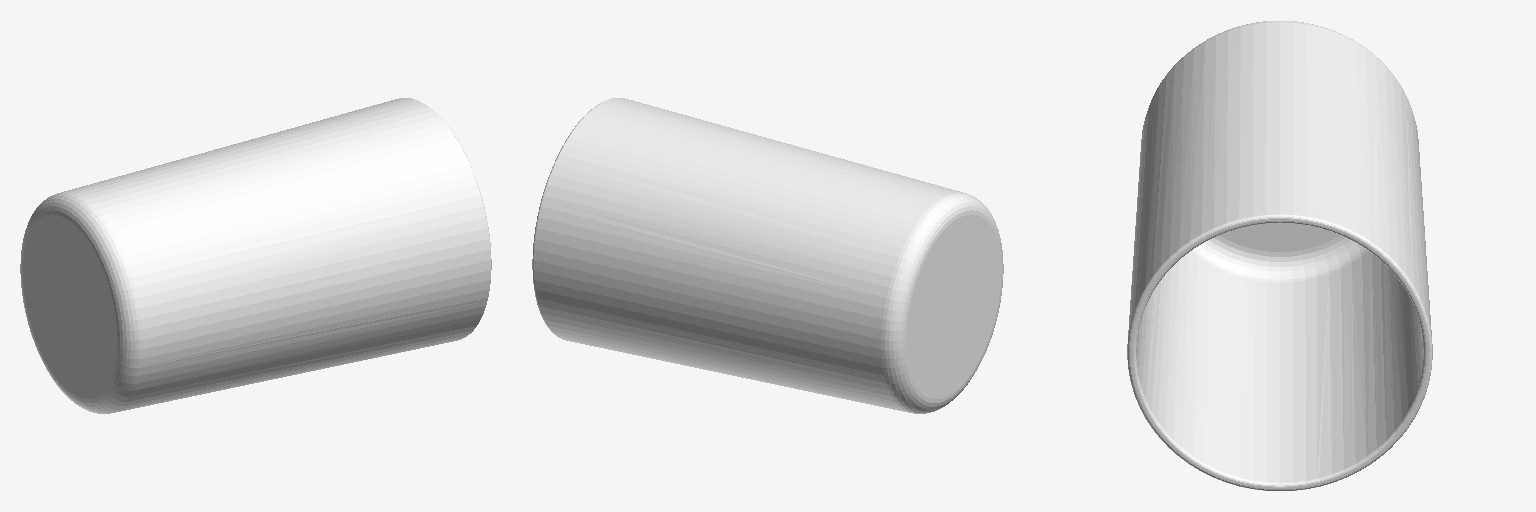
URDF robot description (Cup_GeoCenter.urdf):
<?xml version="1.0" ?>
<robot name="Cup_GeoCenter.urdf">
  <link name="baseLink">
    <contact>
      <lateral_friction value="1.0"/>
      <inertia_scaling value="1.0"/>
    </contact>
    <inertial>
      <origin rpy="0 0.028575317269292654 0" xyz="0.000000 0.000000 0.000000"/>
      <mass value="0.000000"/>
      <inertia ixx="0.000000" ixy="0.000000" ixz="0.000000" iyy="0.000000" iyz="0.000000" izz="0.000000"/>
    </inertial>
    <visual>
      <origin rpy="0 0 0" xyz="0 0 0"/>
      <geometry>
       <mesh filename="Cup_GeoCenter.obj" scale="1 1 1"/>
      </geometry>
       <material name="white">
        <color rgba="1 1 1 0.5"/>
      </material>
    </visual>
    <collision>
      <origin rpy="0 0 0" xyz="0.000000 0.000000 0.000000"/>
      <geometry>
        <mesh filename="Cup_GeoCenter_vhacd.obj" scale="1 1 1"/>
      </geometry>
    </collision>
  </link>
</robot>

--- What the picture shows (computed from the rendered views, not written in the file) ---
The picture shows the robot from 3 angles, left to right: view 1: azimuth 30°, elevation 25°; view 2: azimuth 150°, elevation 25°; view 3: azimuth 270°, elevation 25°; orthographic projection.
Model Cup_GeoCenter.urdf with 1 links and 0 joints (none), rooted at baseLink, posed every joint at zero.
Visible links, largest first — view 1: baseLink; view 2: baseLink; view 3: baseLink.
Boxes of the visible links, x1,y1,x2,y2 form: baseLink: (20, 98, 491, 413); baseLink: (532, 98, 1003, 413); baseLink: (1127, 21, 1432, 490).
Bounding box of the posed robot: 0.1111 × 0.0666 × 0.0666 m (x, y, z).
1 mesh visuals loaded from 1 distinct referenced files (1 OBJ).